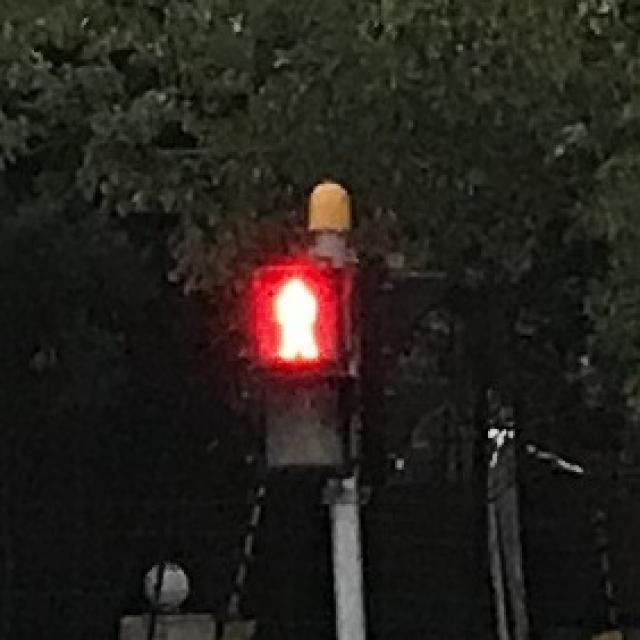red-crossing: (260, 264, 344, 366)
